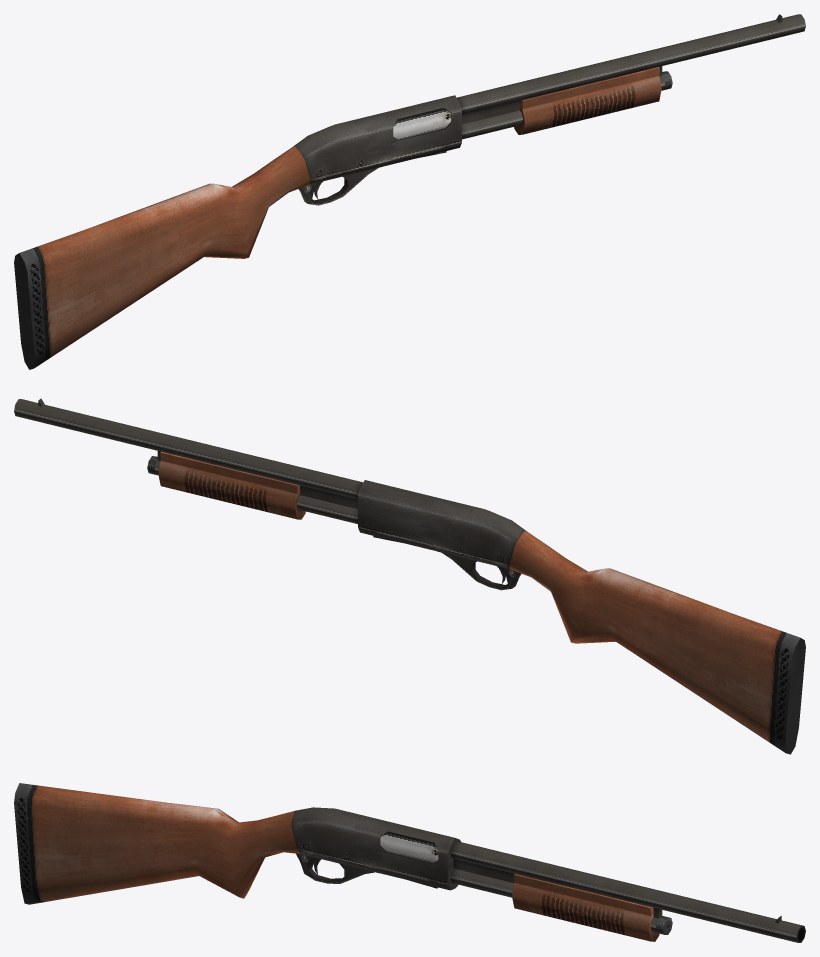
File: shotgun_single_merged_object.glb
The picture shows the model from 3 angles, top to bottom: view 1: azimuth 30°, elevation 25°; view 2: azimuth 150°, elevation 25°; view 3: azimuth 330°, elevation 25°; orthographic projection.
Parts seen in each view (by area): view 1: shotgun_mesh; view 2: shotgun_mesh; view 3: shotgun_mesh.
Boxes of the visible parts, x1,y1,x2,y2 form: shotgun_mesh: [14, 14, 805, 369]; shotgun_mesh: [14, 398, 805, 754]; shotgun_mesh: [14, 783, 805, 942].
Bounding box in the file's own units: 1.26 × 0.2654 × 0.0376.
Materials: 1 (1 with a texture image).
